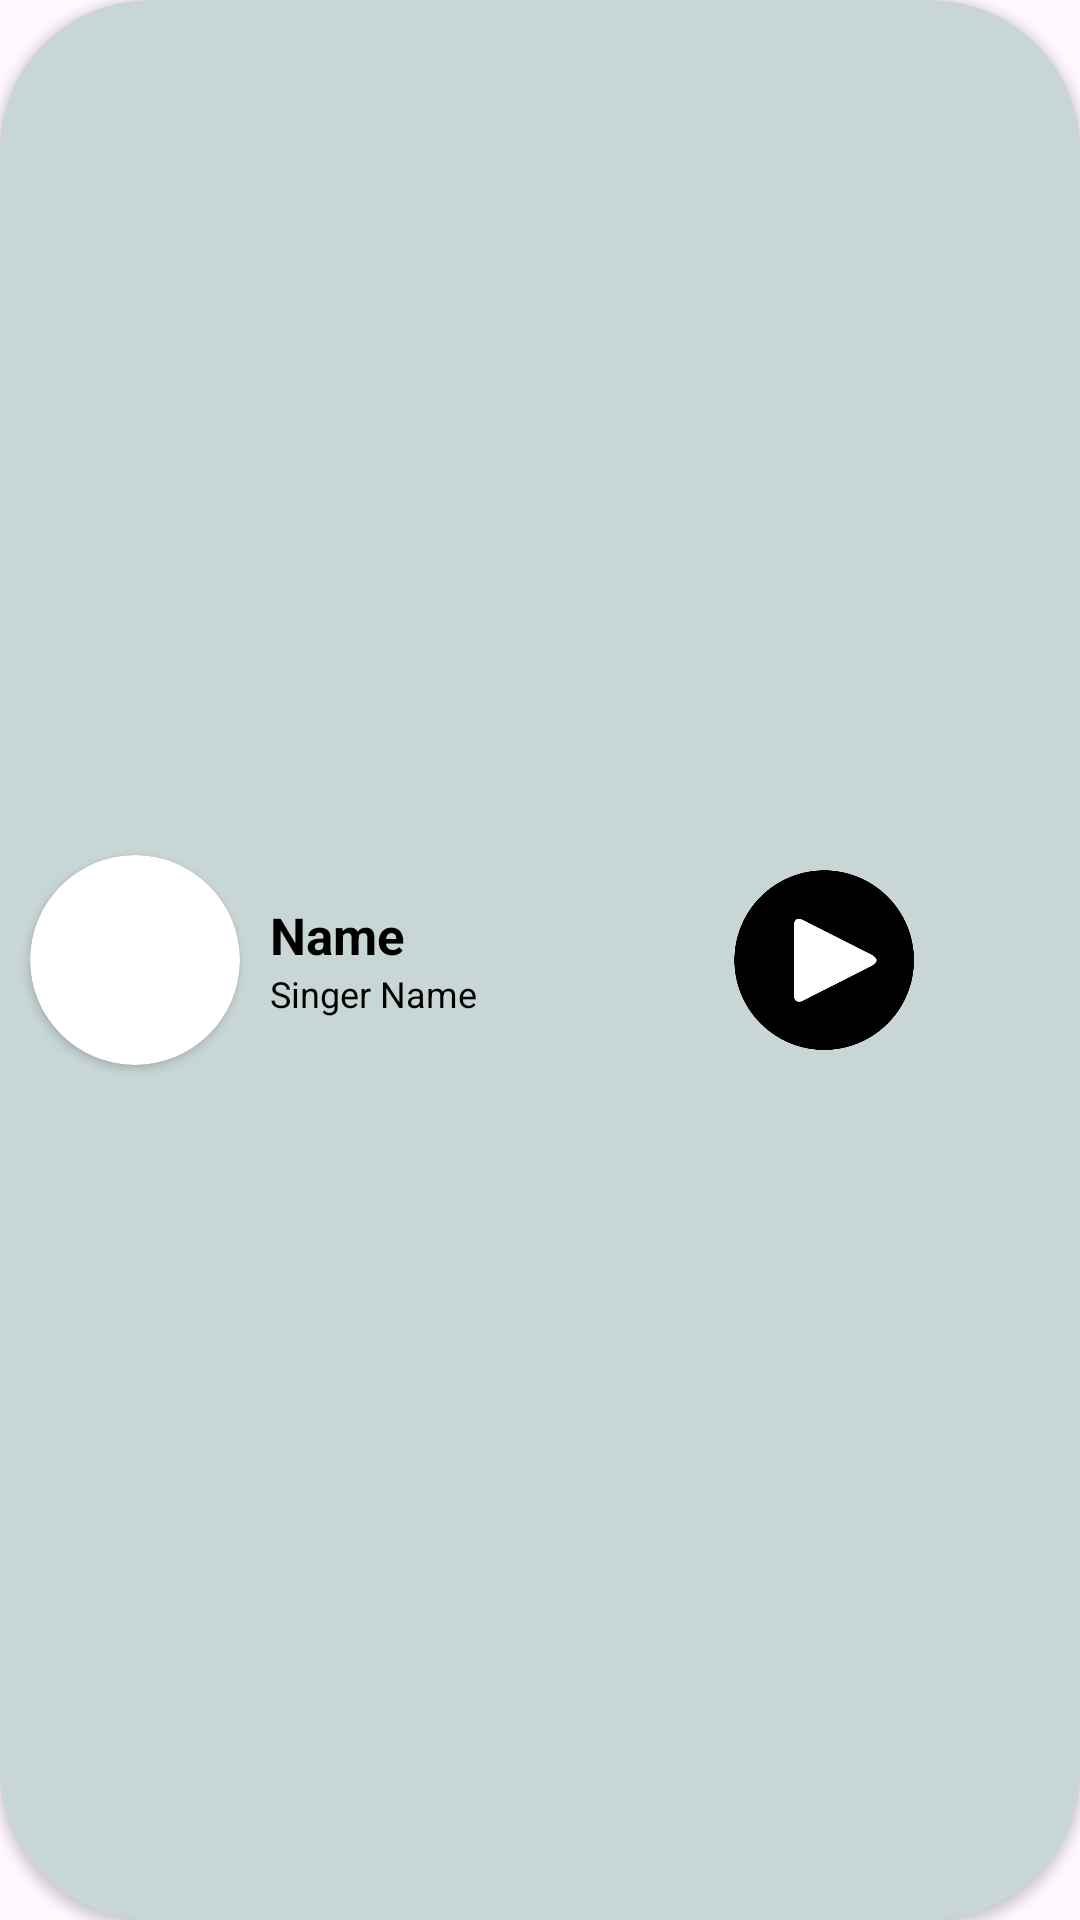

Icons on this 1080px x 1920px Android screen, each with its box as region(x1, y1, x2, y2):
play: region(734, 870, 914, 1050)
